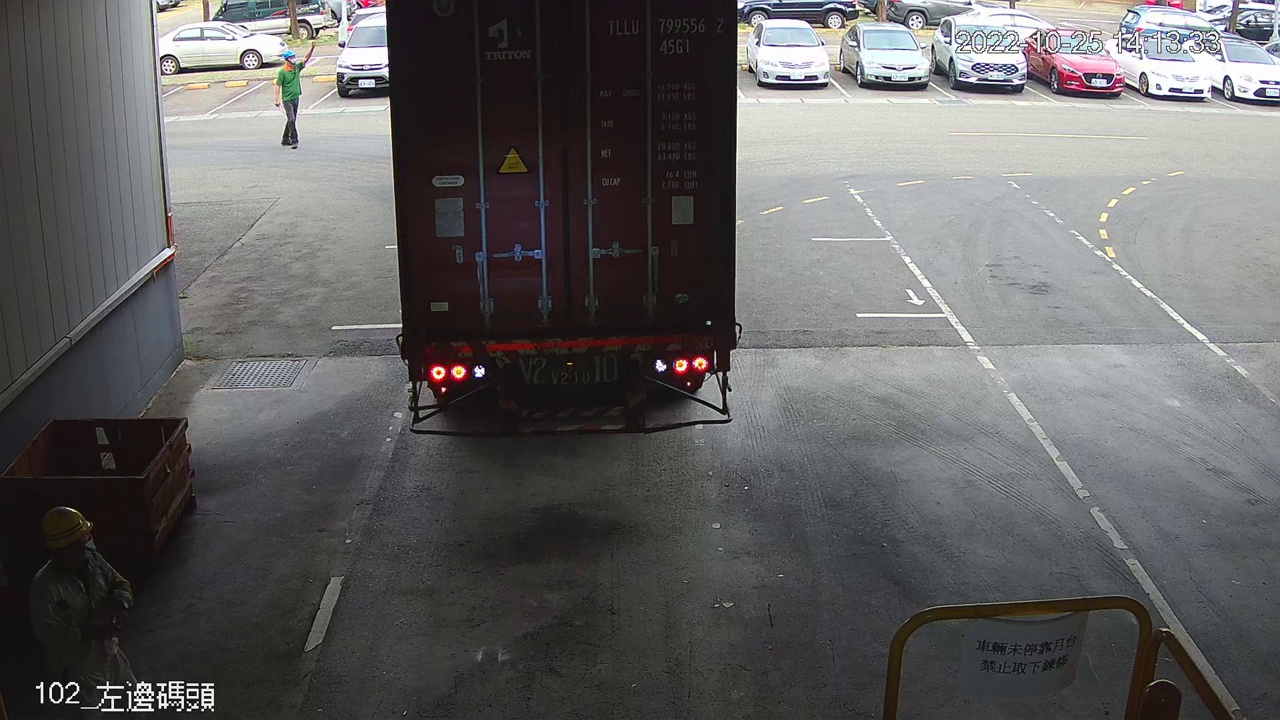container: (594, 9, 732, 60)
